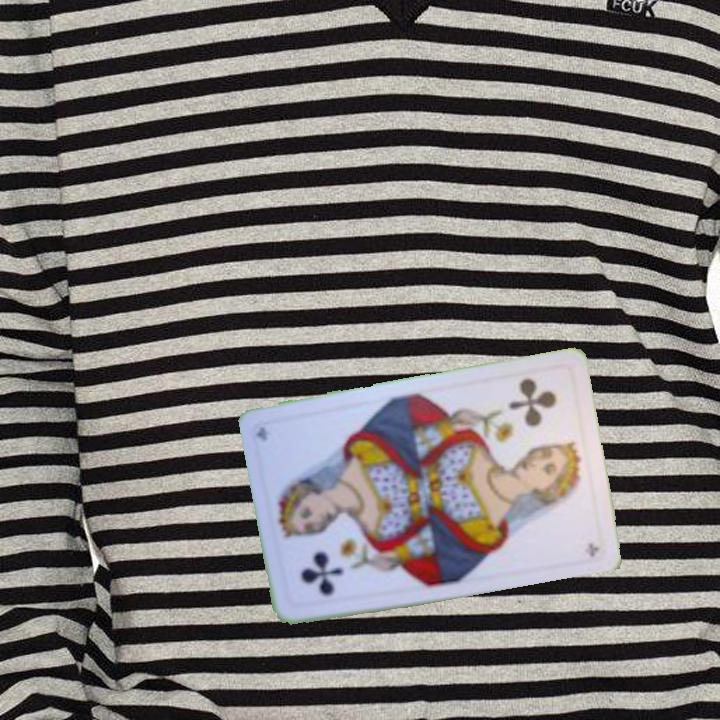c_q.png: (487, 364, 589, 477), (272, 499, 373, 611)
